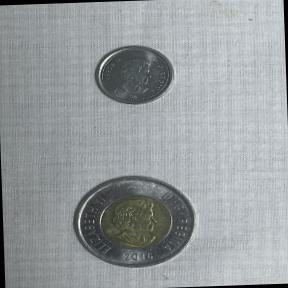Canada-10cent-B: (90, 39, 180, 112)
Canada-2Dollar-B: (64, 166, 204, 278)
